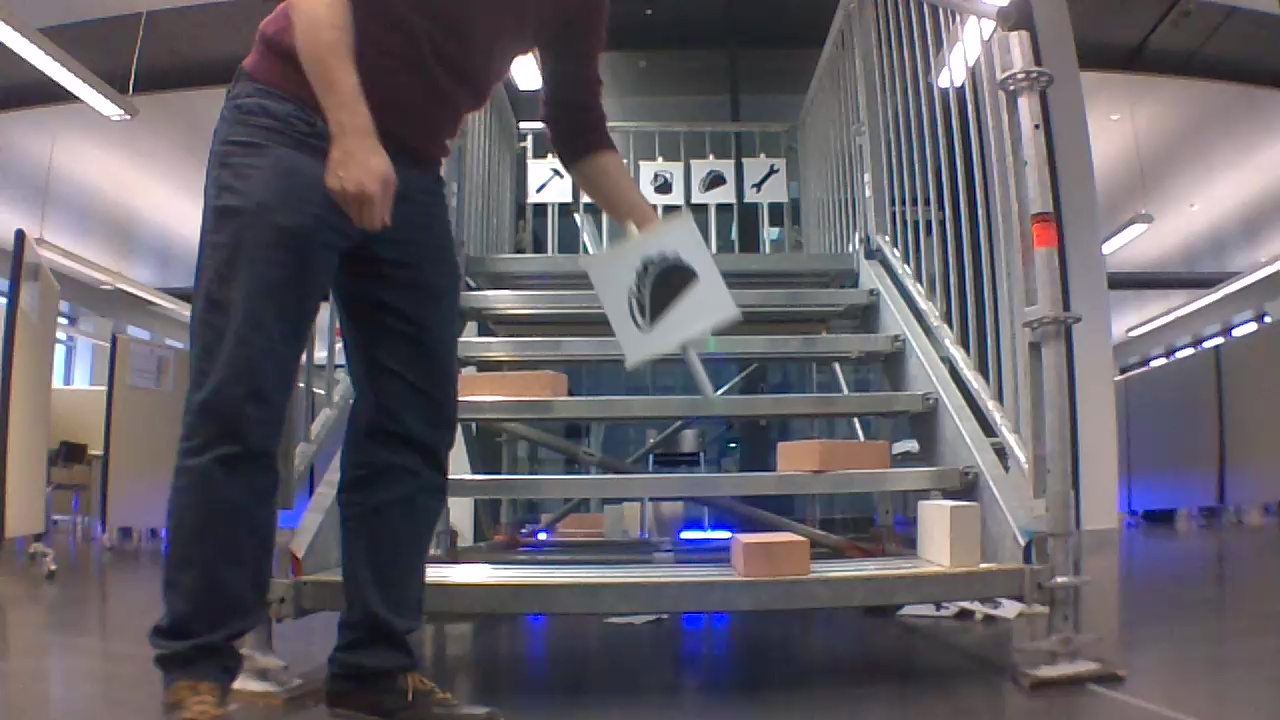brick: (915, 498, 980, 566), (777, 440, 890, 470), (730, 534, 809, 575), (457, 370, 564, 397)
bucket: (647, 167, 676, 198)
edge: (428, 567, 1022, 608), (450, 469, 976, 495), (462, 390, 936, 416)
hammer: (530, 165, 566, 196)
taco: (618, 246, 702, 334), (694, 164, 731, 197)
wrench: (747, 161, 781, 197)
